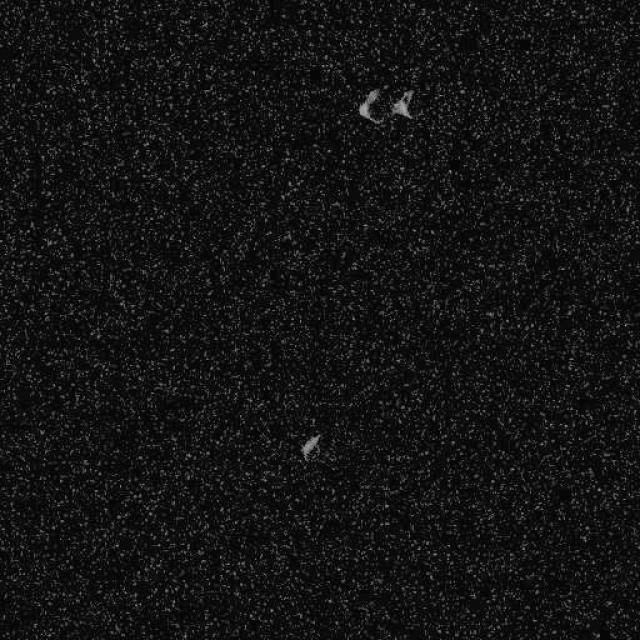D2: (358, 88, 383, 124), (390, 88, 414, 119), (299, 431, 321, 460)
